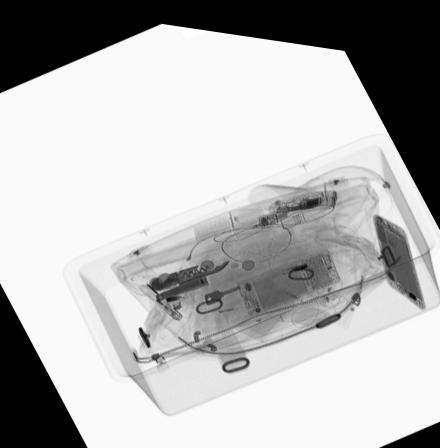Lighter: (138, 276, 183, 317)
